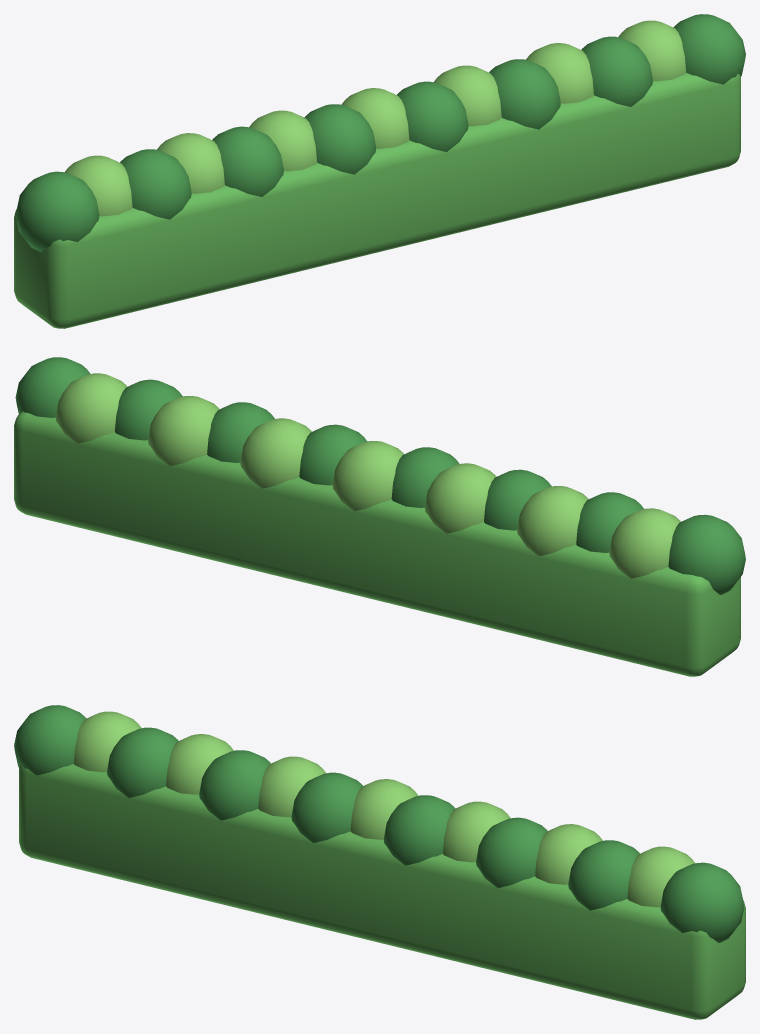
The model's file is hedge_long.glb.
The picture shows the model from 3 angles, top to bottom: view 1: azimuth 30°, elevation 25°; view 2: azimuth 150°, elevation 25°; view 3: azimuth 330°, elevation 25°; orthographic projection.
Visible parts, largest first — view 1: hedge_long; view 2: hedge_long; view 3: hedge_long.
Boxes of the visible parts, x1,y1,x2,y2 form: hedge_long: [14, 14, 745, 328]; hedge_long: [14, 357, 745, 676]; hedge_long: [14, 705, 745, 1019].
Size of the model in its own units: 6.24 by 1.17 by 0.74.
